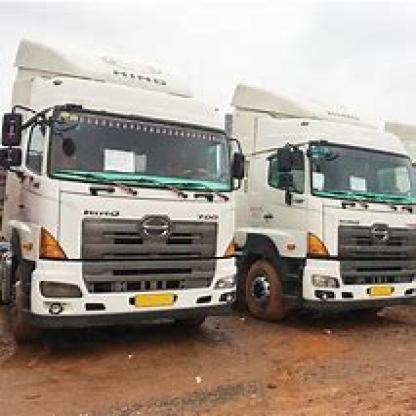dump_truck: (10, 64, 242, 336), (248, 80, 414, 340)
